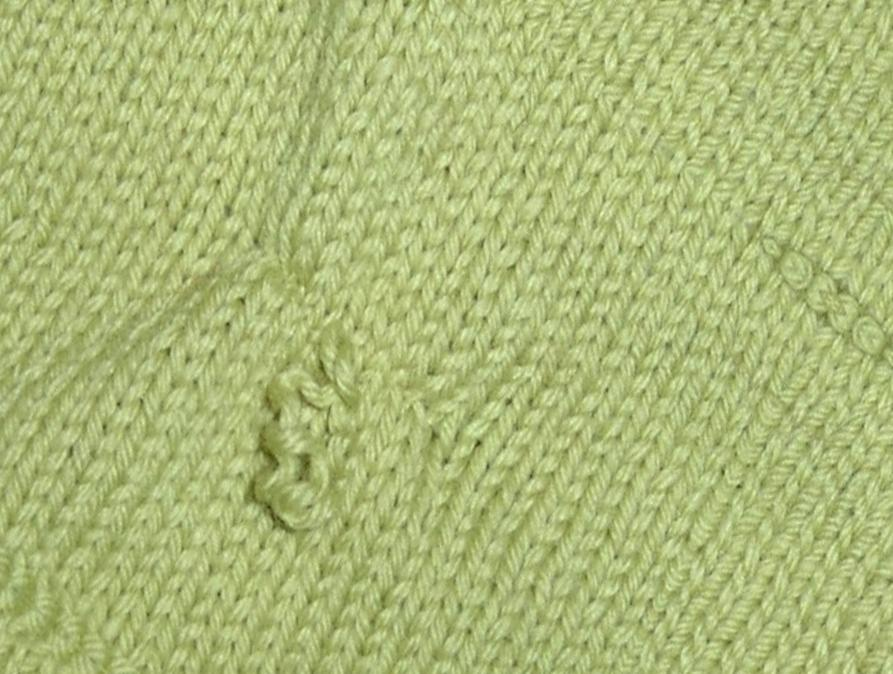knot: (246, 361, 361, 539)
